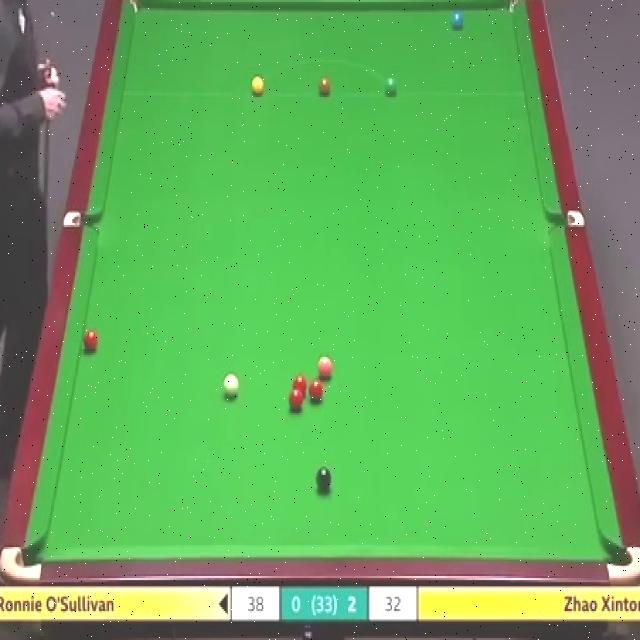black-ball: (315, 464, 332, 494)
blue-ball: (451, 9, 464, 29)
brown-ball: (318, 78, 331, 95)
green-ball: (384, 74, 398, 99)
pink-ball: (317, 355, 333, 380)
red-ball: (288, 388, 304, 411), (83, 329, 98, 353), (293, 374, 307, 399), (310, 381, 325, 402)
white-ball: (223, 371, 241, 403)
yellow-ball: (250, 75, 265, 97)
